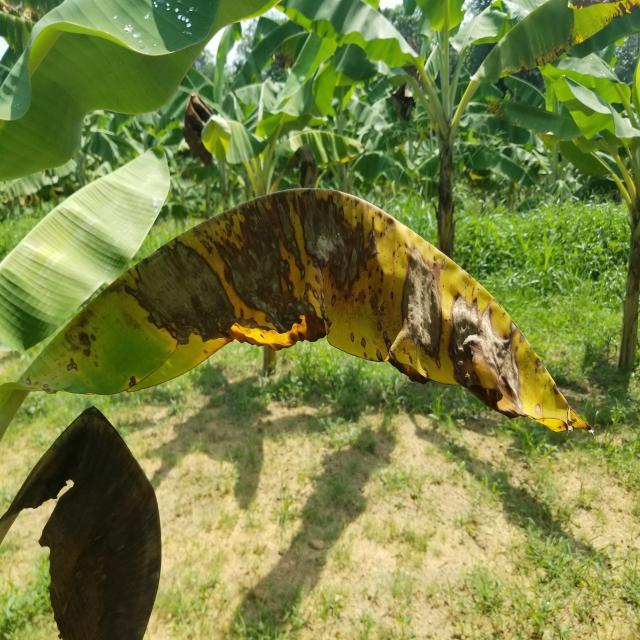Early_rust: (34, 164, 596, 506), (420, 0, 640, 100), (221, 23, 351, 125)
